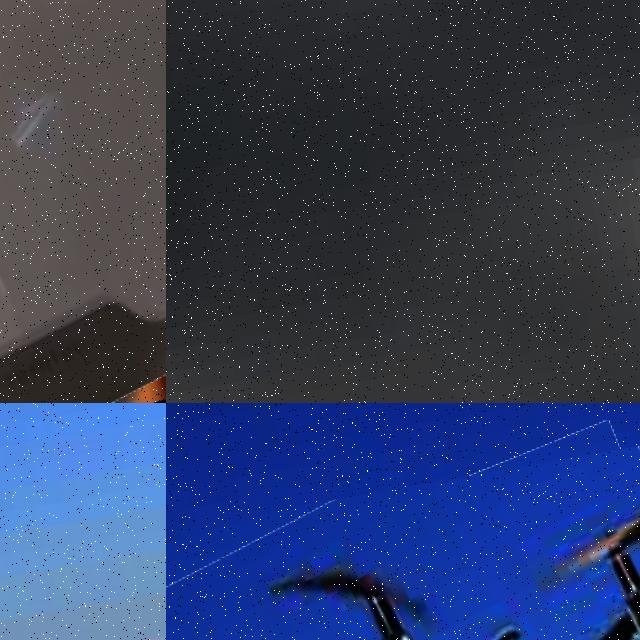0: (166, 441, 640, 640)
drone: (0, 0, 166, 403)
